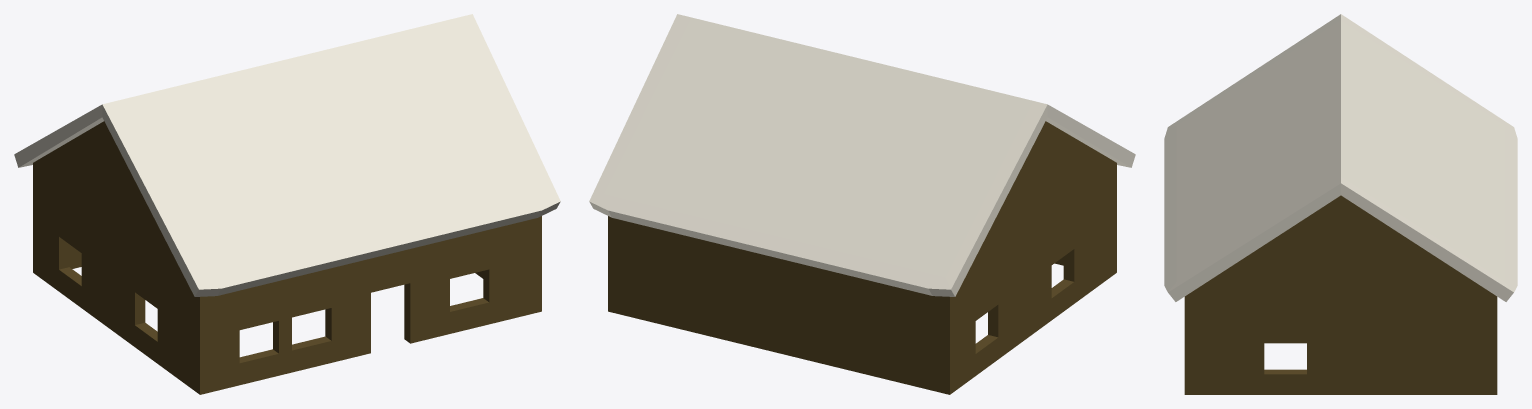
File: SM_Cabin.fbx
3 views of the same model, side by side, from view 1: azimuth 30°, elevation 25°; view 2: azimuth 150°, elevation 25°; view 3: azimuth 270°, elevation 25° (orthographic). The views are drawn at different scales.
Visible parts, largest first — view 1: House; view 2: House; view 3: House.
Boxes of the visible parts, x1,y1,x2,y2 form: House: [14, 14, 560, 394]; House: [589, 14, 1135, 394]; House: [1164, 14, 1517, 394].
Size of the model in its own units: 1409 by 847 by 1243.
